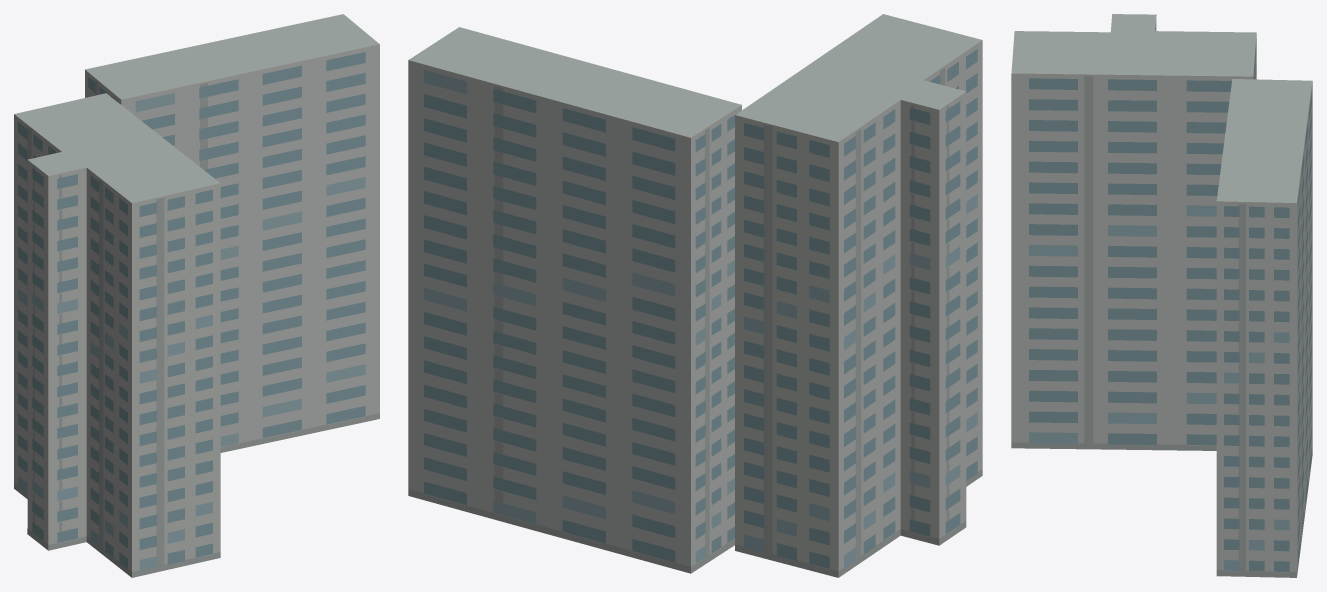
File: residential-aaadf331-28e1-4a1e-a4ec-f5ac295ad967.glb
The picture shows the model from 3 angles, left to right: view 1: azimuth 30°, elevation 25°; view 2: azimuth 150°, elevation 25°; view 3: azimuth 270°, elevation 25°; orthographic projection. The views are drawn at different scales.
Parts seen in each view (by area): view 1: residential-aaadf331-28e1-4a1e-a4ec-f5ac295ad967.tmp; view 2: residential-aaadf331-28e1-4a1e-a4ec-f5ac295ad967.tmp; view 3: residential-aaadf331-28e1-4a1e-a4ec-f5ac295ad967.tmp.
Boxes of the visible parts, x1,y1,x2,y2 form: residential-aaadf331-28e1-4a1e-a4ec-f5ac295ad967.tmp: [14, 14, 379, 577]; residential-aaadf331-28e1-4a1e-a4ec-f5ac295ad967.tmp: [408, 14, 982, 577]; residential-aaadf331-28e1-4a1e-a4ec-f5ac295ad967.tmp: [1011, 14, 1312, 577].
Size of the model in its own units: 59.43 by 54.9 by 39.98.
